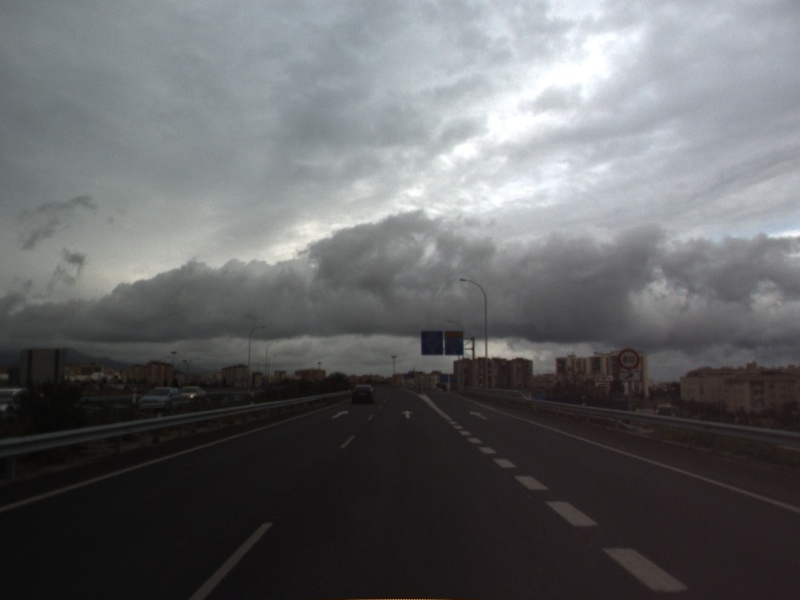STRAIGHT: (468, 409, 491, 422), (329, 408, 351, 421), (399, 408, 416, 420)
